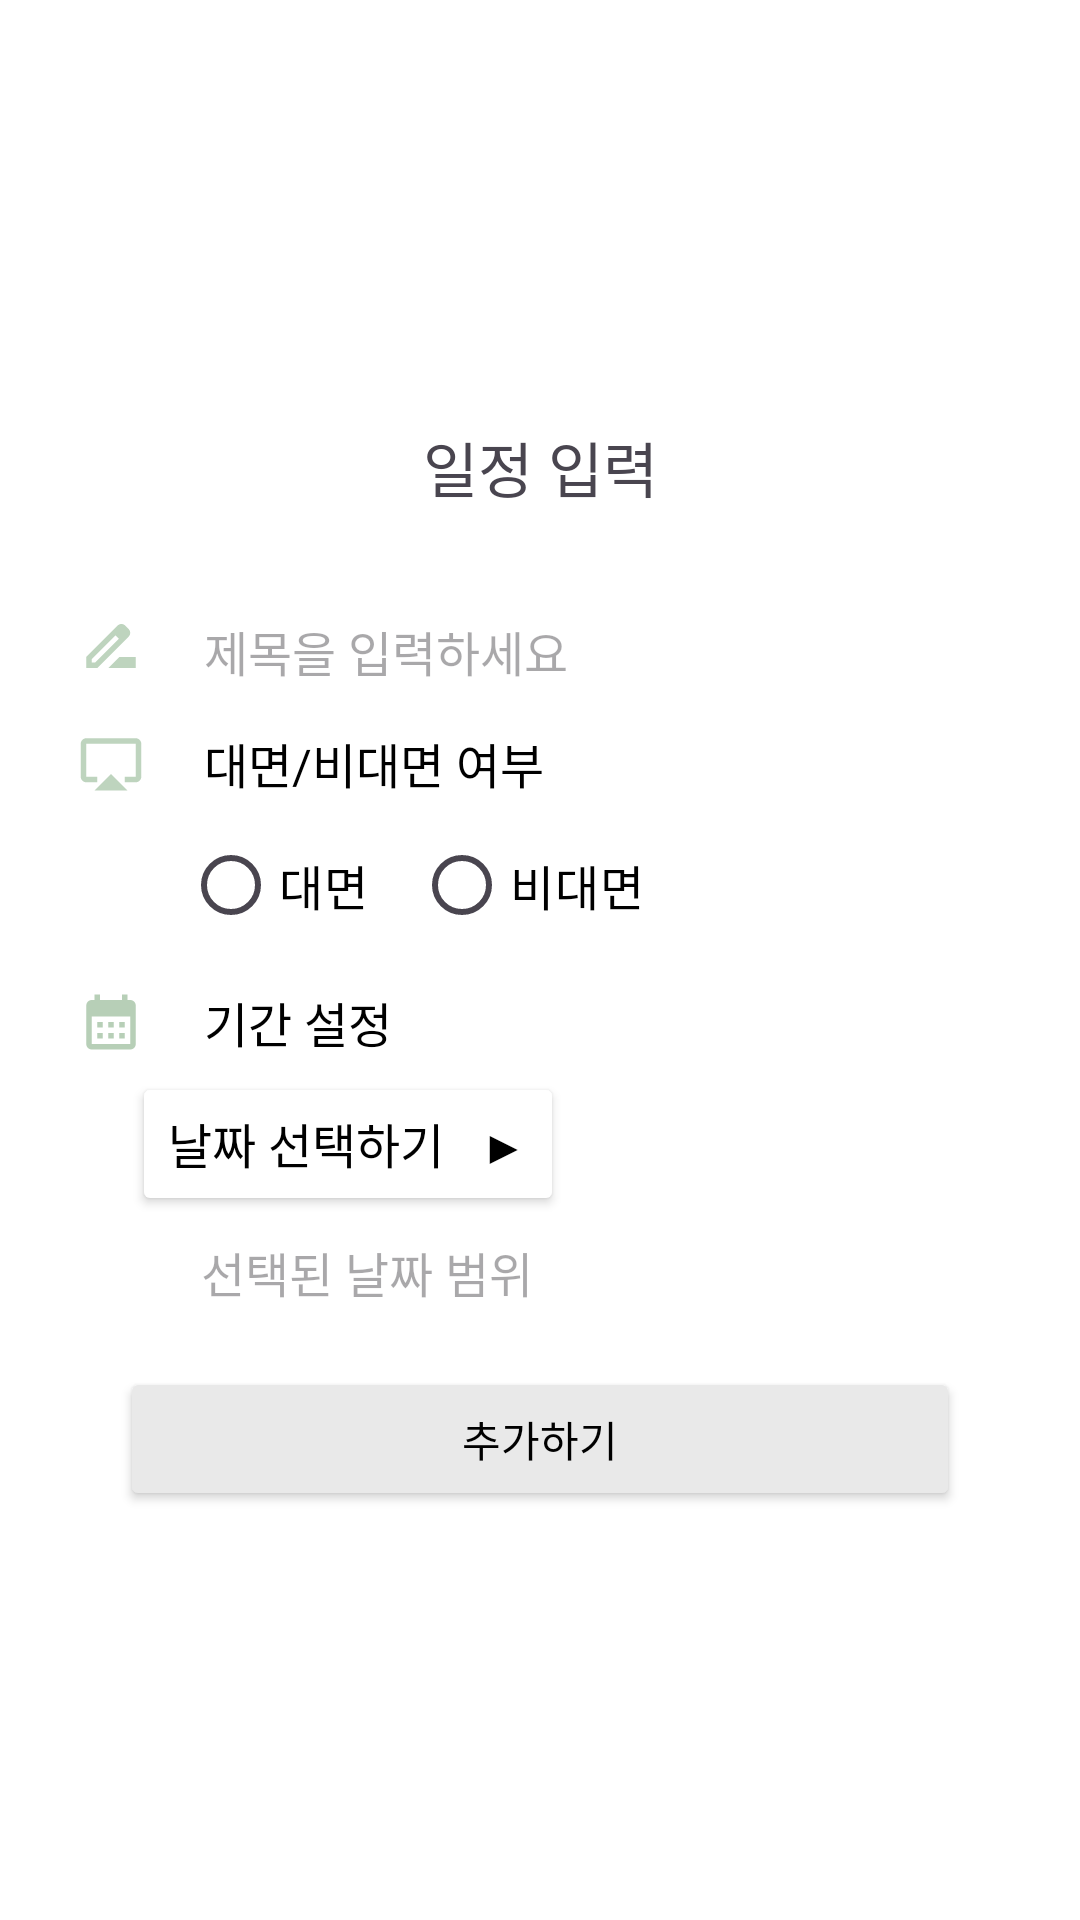

Icon click points for this 1080*1920 phone screenshot, format [x,y]:
airplay: [111,764]
calendar: [111,1022]
rename: [111,646]
